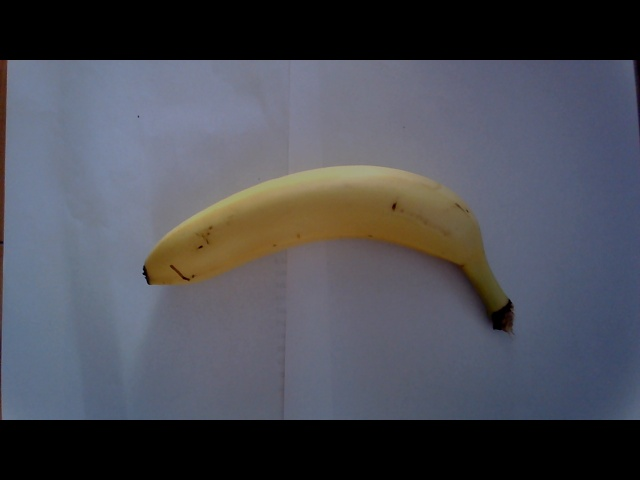banana: (133, 152, 533, 329)
